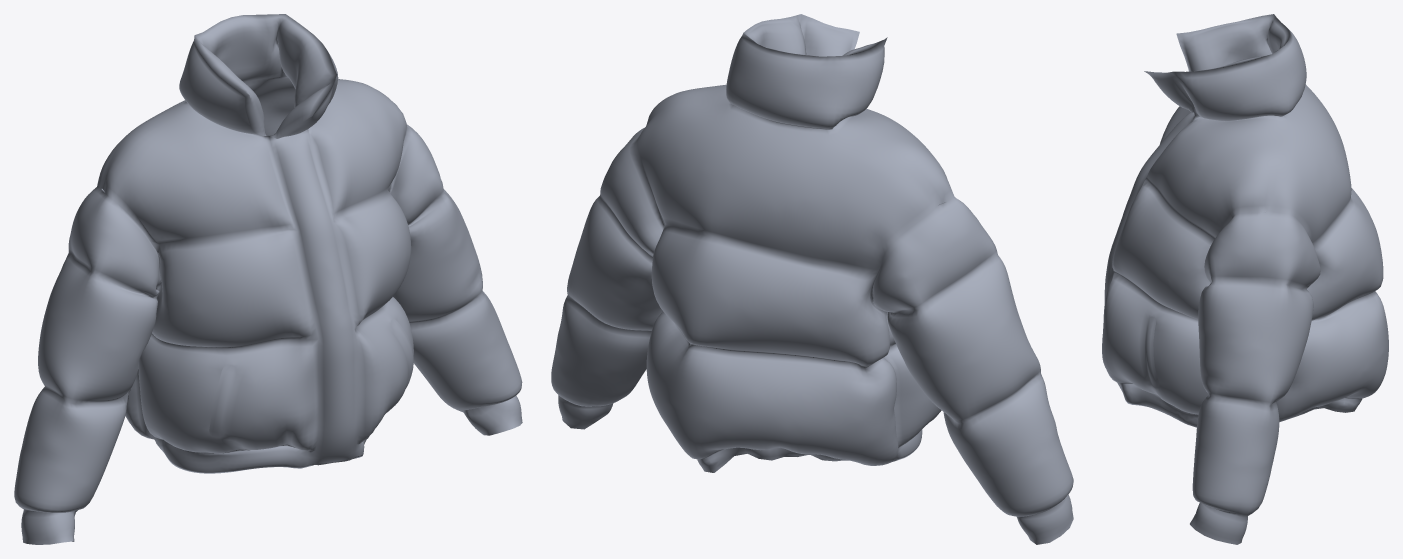
The picture shows the model from 3 angles, left to right: view 1: azimuth 30°, elevation 25°; view 2: azimuth 150°, elevation 25°; view 3: azimuth 270°, elevation 25°; orthographic projection. The views are drawn at different scales.
Visible parts, largest first — view 1: T13_Puffer Jacket; view 2: T13_Puffer Jacket; view 3: T13_Puffer Jacket.
Boxes of the visible parts, <box> form: T13_Puffer Jacket: <box>14,14,522,544</box>; T13_Puffer Jacket: <box>551,14,1073,544</box>; T13_Puffer Jacket: <box>1102,14,1388,544</box>.
Bounding box in the file's own units: 93.28 × 80.2 × 50.93.
